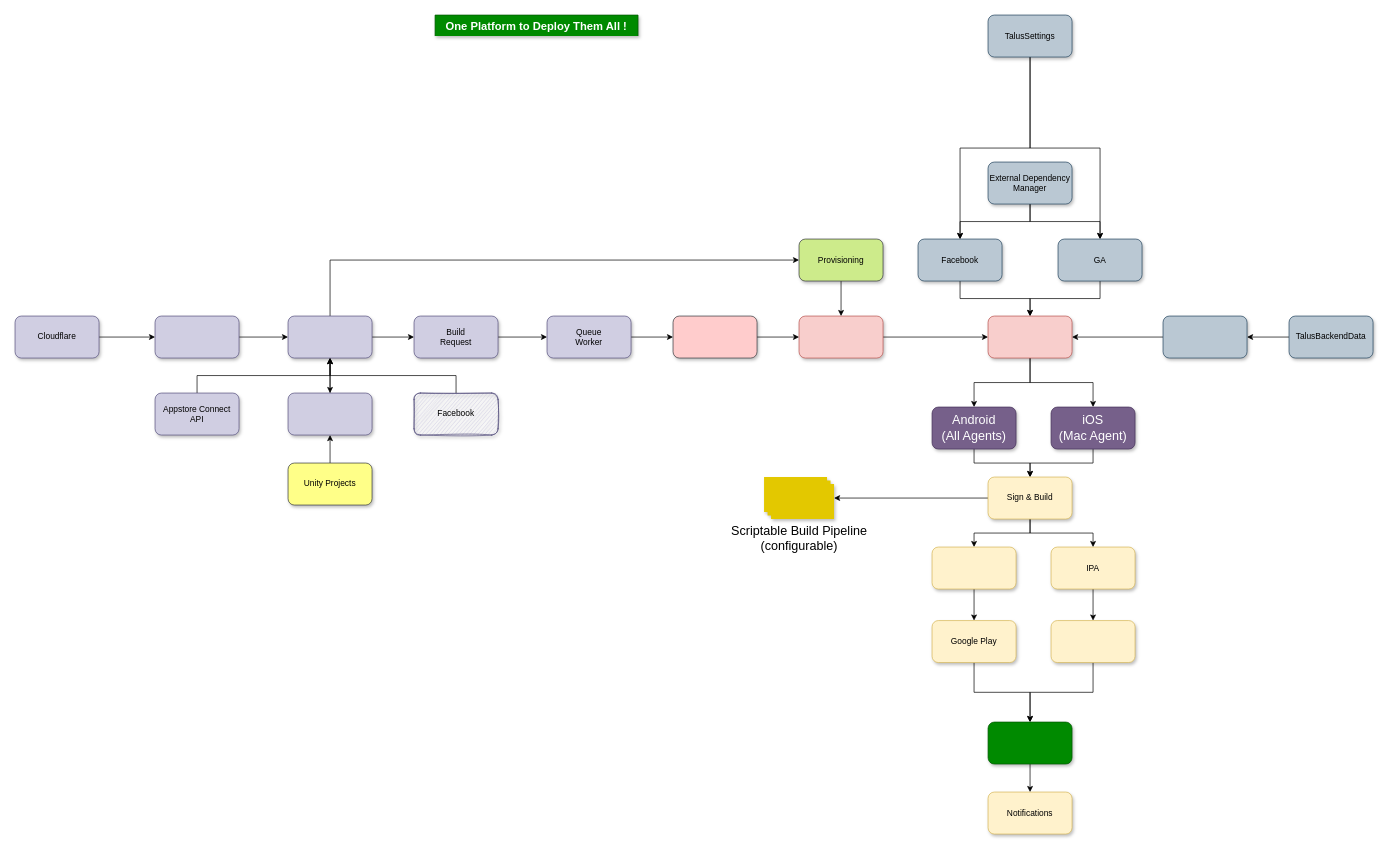
Image size: 1390x851. Some labels were removed from this diagram. The centre of each missing label's shape, as x and y in pixels:
"APK/AAB" goes at pixel 974 569.
"Backend" goes at pixel 330 338.
"GitHub API" goes at pixel 330 415.
"Jenkins Agents (Windows, Mac)" goes at pixel 841 338.
"Release" goes at pixel 1030 744.
"TalusCI" goes at pixel 1205 338.
"Test Flight" goes at pixel 1093 642.
"Tunnel" goes at pixel 715 338.
"Unity3D" goes at pixel 1030 338.
"Web Dashboard" goes at pixel 197 338.
